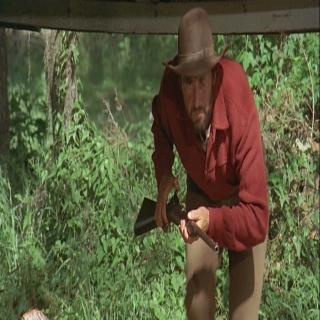gun: (124, 186, 229, 272)
